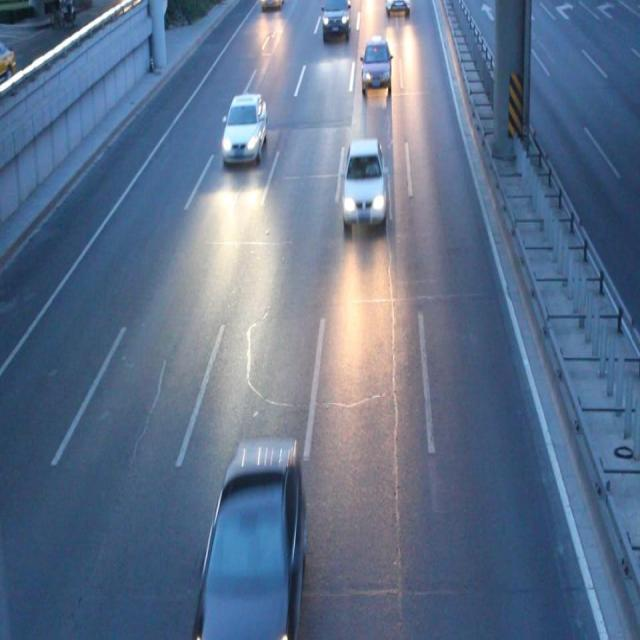car: (195, 444, 305, 640), (340, 140, 387, 230), (220, 92, 266, 164), (359, 39, 392, 93), (321, 1, 350, 38)
